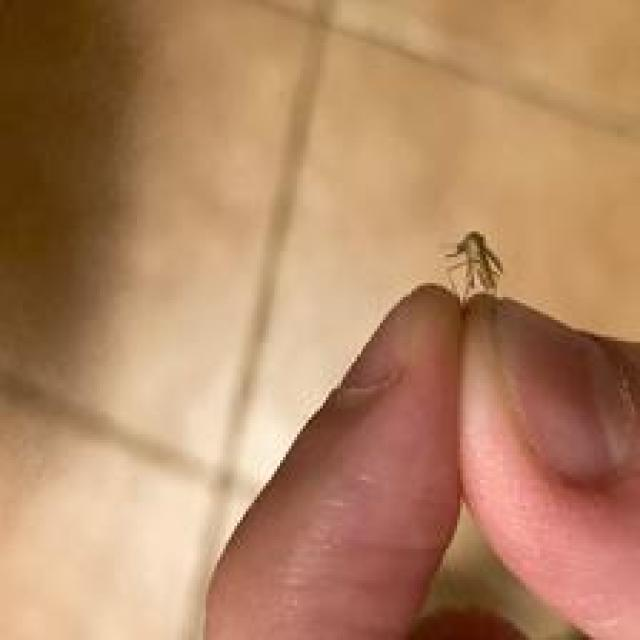Culex: (444, 229, 504, 297)
